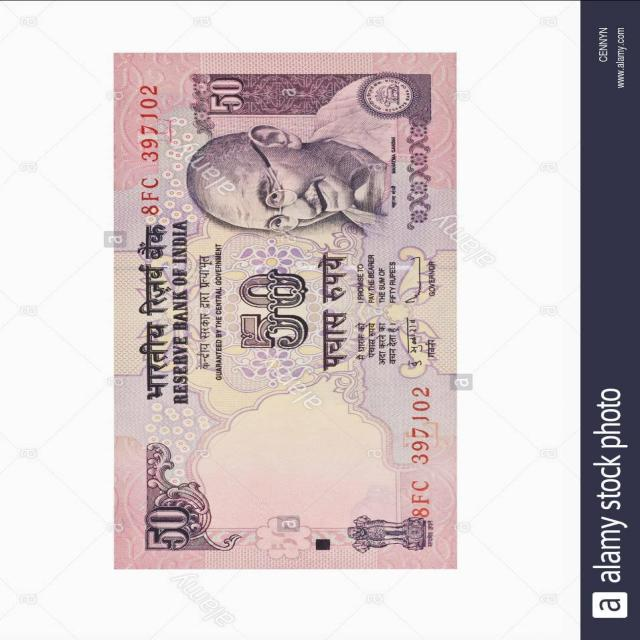50IndianRupees: (117, 58, 455, 566)
